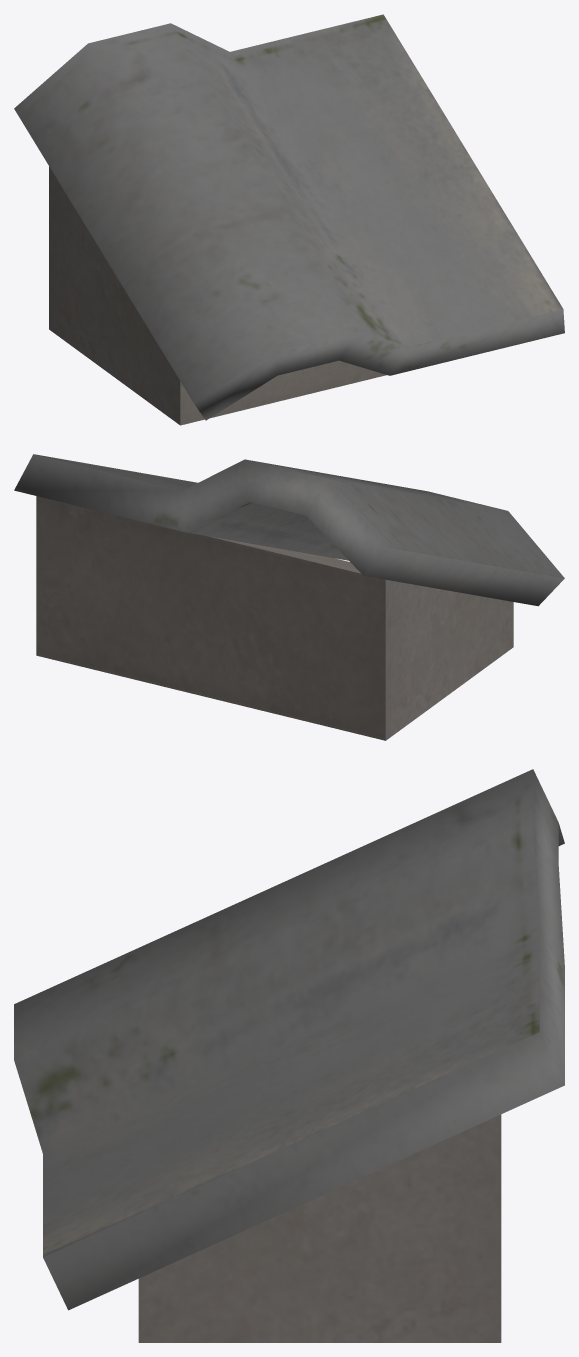
File: Roof_Overhang_B.fbx
3 views of the same model, one above another, from view 1: azimuth 30°, elevation 25°; view 2: azimuth 150°, elevation 25°; view 3: azimuth 270°, elevation 25° (orthographic). The views are drawn at different scales.
Parts seen in each view (by area): view 1: Roof_Overhang_B; view 2: Roof_Overhang_B; view 3: Roof_Overhang_B.
Boxes of the visible parts, x1,y1,x2,y2 form: Roof_Overhang_B: (14, 14, 564, 425); Roof_Overhang_B: (14, 454, 564, 740); Roof_Overhang_B: (14, 769, 564, 1342).
Bounding box in the file's own units: 42.5 × 28.44 × 38.78.
